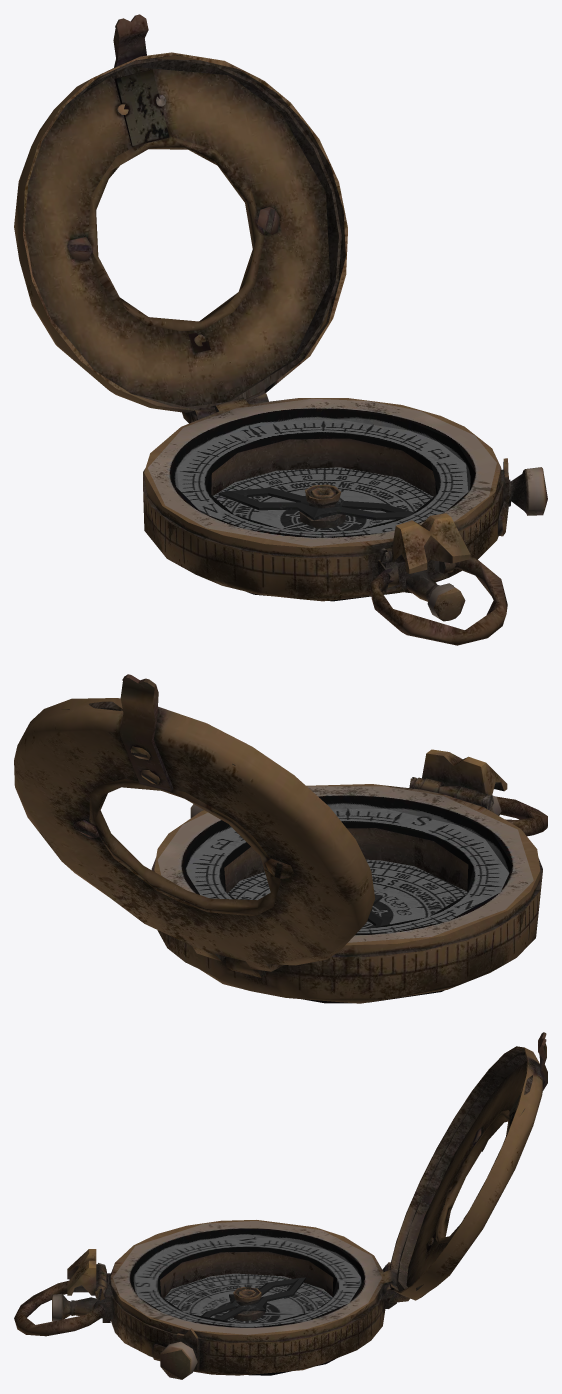
Rendered from seadogs_compass.glb.
3 views of the same model, one above another, from view 1: azimuth 30°, elevation 25°; view 2: azimuth 150°, elevation 25°; view 3: azimuth 270°, elevation 25° (orthographic). The views are drawn at different scales.
Parts seen in each view (by area): view 1: seadogs_compass; view 2: seadogs_compass; view 3: seadogs_compass.
Boxes of the visible parts, x1=… form: seadogs_compass: x1=14, y1=14, x2=547, y2=645; seadogs_compass: x1=14, y1=674, x2=547, y2=1003; seadogs_compass: x1=14, y1=1032, x2=547, y2=1379.
Size of the model in its own units: 0.0811 by 0.0866 by 0.1441.
Materials: 1 (1 with a texture image).
